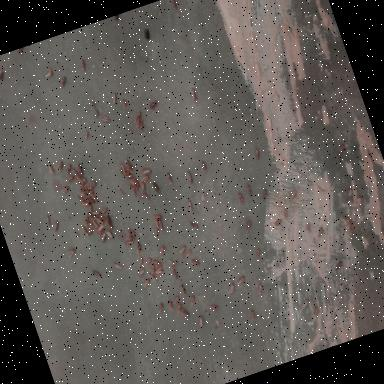pbw: (104, 214, 114, 231), (241, 221, 254, 234), (298, 297, 312, 309), (130, 112, 144, 124), (302, 222, 314, 236), (246, 310, 257, 324), (286, 188, 300, 199), (188, 220, 200, 232), (272, 254, 284, 266), (352, 194, 364, 206), (170, 0, 181, 13), (134, 242, 144, 256), (86, 201, 96, 215), (76, 172, 87, 184), (332, 260, 344, 271), (196, 315, 206, 328), (51, 220, 61, 233), (149, 262, 158, 276), (200, 160, 209, 174), (42, 68, 53, 79), (345, 216, 355, 228), (272, 218, 284, 228), (139, 174, 151, 184), (154, 266, 166, 276), (66, 248, 78, 258), (140, 166, 152, 176), (174, 304, 184, 316), (235, 276, 247, 286), (132, 176, 140, 190), (186, 200, 194, 214), (253, 249, 263, 260), (142, 191, 152, 202), (63, 164, 74, 174), (176, 245, 187, 255), (88, 212, 99, 222), (100, 114, 110, 125), (346, 187, 356, 198), (58, 76, 69, 86), (76, 193, 86, 204), (226, 284, 237, 294), (86, 195, 96, 206), (154, 258, 164, 269), (337, 144, 347, 155), (78, 185, 88, 196), (254, 284, 264, 295), (90, 192, 99, 204), (76, 163, 84, 176), (152, 182, 160, 195), (142, 278, 152, 288), (80, 198, 90, 208), (316, 227, 326, 237), (156, 246, 166, 256), (86, 224, 96, 234), (179, 308, 189, 318), (148, 100, 158, 110), (96, 224, 106, 234), (156, 304, 166, 314), (82, 130, 92, 140), (88, 180, 98, 190), (185, 172, 194, 183), (124, 158, 132, 170), (130, 178, 138, 190), (81, 226, 89, 238), (64, 176, 76, 184), (126, 228, 134, 240), (112, 14, 124, 22), (238, 193, 246, 205), (137, 256, 145, 268), (118, 162, 126, 174), (106, 228, 114, 240), (111, 93, 119, 105), (140, 182, 148, 194), (56, 162, 65, 172), (92, 268, 101, 278), (254, 149, 262, 160), (166, 174, 174, 185), (80, 60, 88, 71), (348, 224, 356, 235), (46, 164, 54, 175), (150, 271, 158, 282), (96, 215, 104, 226), (260, 190, 269, 199), (246, 186, 254, 196), (85, 220, 95, 228), (171, 268, 179, 278), (134, 118, 142, 128), (167, 302, 175, 312), (114, 261, 122, 271), (130, 230, 138, 240), (208, 304, 218, 312), (100, 234, 108, 244), (124, 238, 134, 246), (72, 168, 80, 178), (87, 186, 95, 196), (131, 186, 139, 196), (17, 49, 25, 59), (61, 186, 70, 194), (158, 219, 164, 231), (144, 258, 153, 266), (74, 231, 82, 240), (188, 297, 196, 306), (190, 88, 196, 100), (122, 99, 128, 111), (126, 166, 134, 175), (154, 214, 164, 221), (124, 173, 134, 180), (136, 269, 146, 276), (214, 320, 221, 330), (283, 210, 290, 220), (90, 102, 98, 110), (82, 216, 90, 224), (93, 110, 101, 118), (184, 249, 192, 257), (44, 216, 51, 225), (100, 207, 109, 214), (200, 192, 207, 201), (191, 257, 198, 266), (154, 220, 160, 230), (118, 188, 124, 198), (68, 194, 76, 201), (78, 191, 86, 198), (172, 297, 180, 304), (180, 288, 186, 297), (170, 260, 179, 266), (91, 210, 100, 216), (0, 70, 5, 80), (86, 189, 91, 199), (127, 130, 134, 136), (154, 228, 159, 236), (168, 259, 173, 265)
